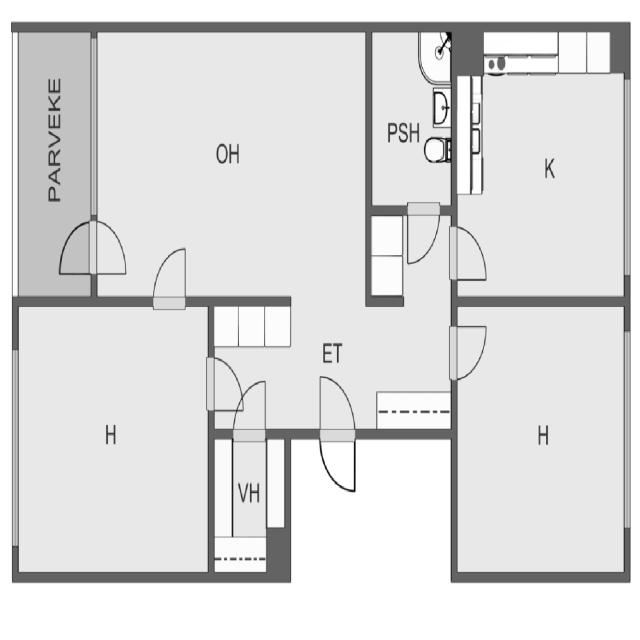door: (314, 372, 358, 497), (53, 218, 120, 278), (227, 373, 274, 438), (148, 241, 192, 308), (448, 220, 491, 286), (402, 198, 441, 270), (206, 351, 246, 417), (449, 320, 490, 379), (90, 218, 130, 277)
window: (618, 76, 638, 286), (619, 322, 636, 538), (8, 346, 22, 554), (87, 37, 101, 223)
zone: (94, 31, 370, 300), (10, 301, 215, 582), (453, 304, 631, 578), (456, 47, 630, 301), (210, 301, 452, 433), (370, 27, 454, 214), (212, 433, 288, 577)
